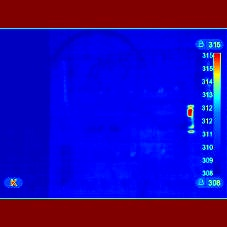Less: (188, 118, 197, 133)
